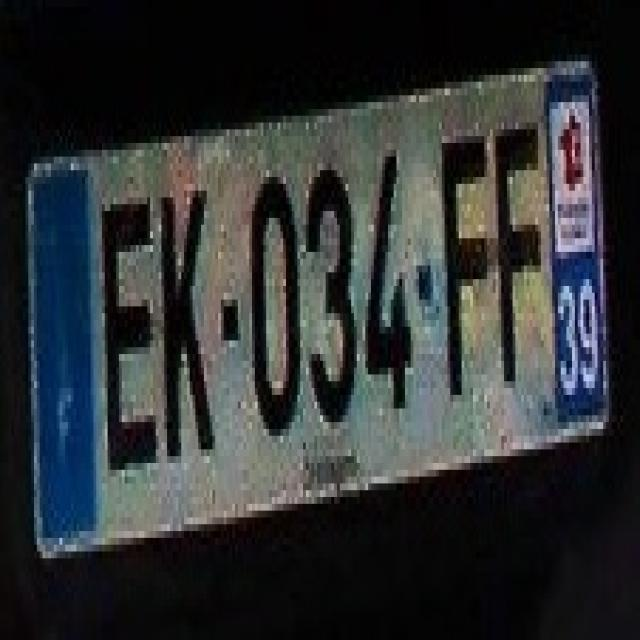EU: (33, 59, 609, 552)
France: (36, 174, 95, 541)
